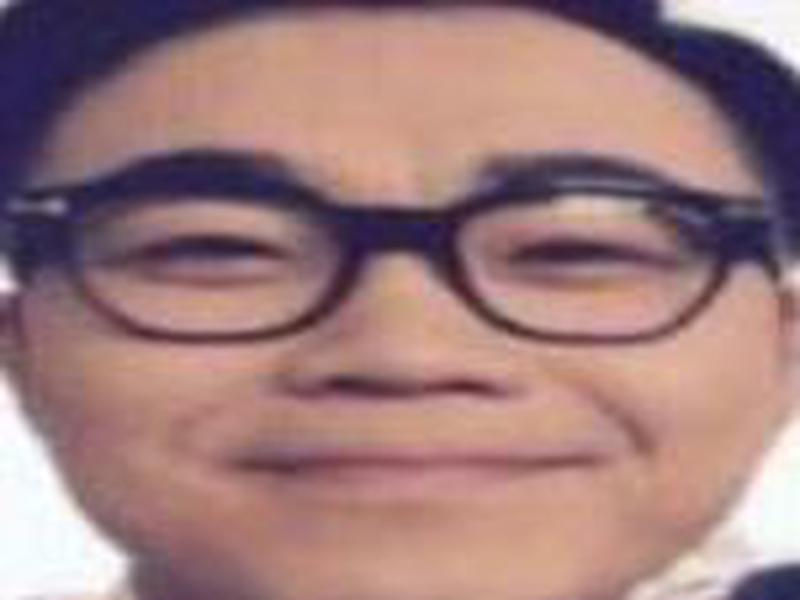without_mask: (21, 53, 787, 595)
